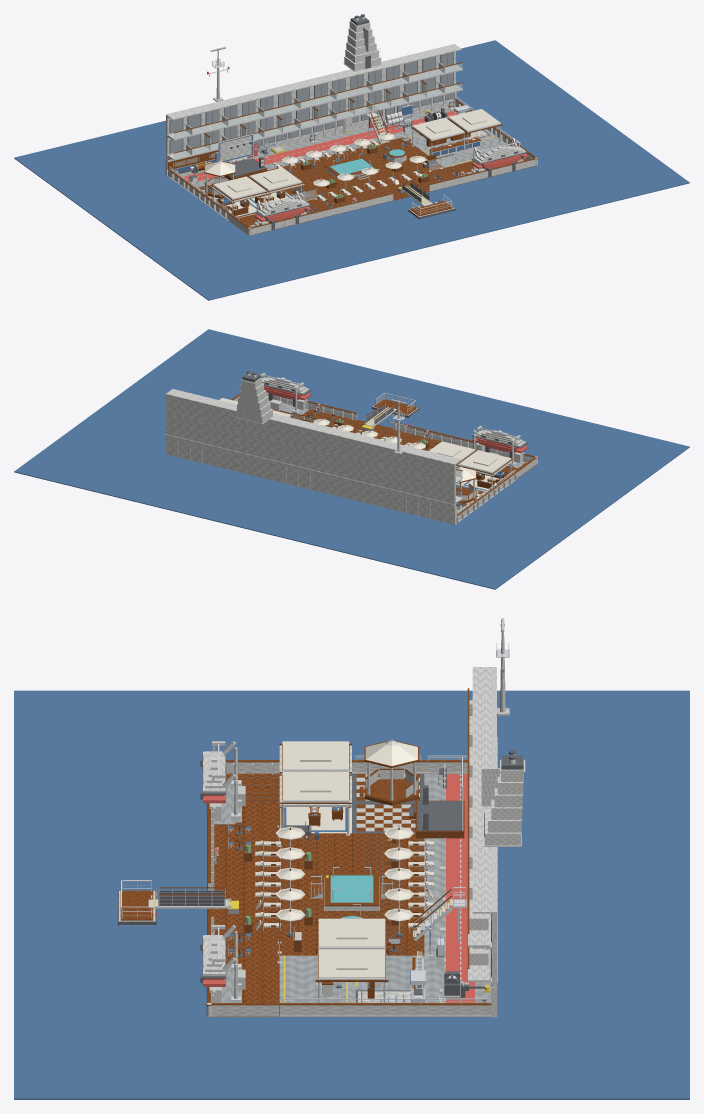
Rendered from cruise-ship-deck-and-lounge-cruise-ship--1aad3f11-starter-scene__38462.glb.
3 renders of one model, top to bottom at view 1: azimuth 30°, elevation 25°; view 2: azimuth 150°, elevation 25°; view 3: azimuth 270°, elevation 25°, orthographic. The views are drawn at different scales.
Visible parts, largest first — view 1: 003-cruise-ship-deck-and-lounge-sea-surface-tile/0, 027-cruise-ship-deck-and-lounge-sea-surface-tile/0, 035-cruise-ship-deck-and-lounge-sea-surface-tile/0, 019-cruise-ship-deck-and-lounge-sea-surface-tile/0, 023-cruise-ship-deck-and-lounge-sea-surface-tile/0, 007-cruise-ship-deck-and-lounge-sea-surface-tile/0, 011-cruise-ship-deck-and-lounge-sea-surface-tile/0, 039-cruise-ship-deck-and-lounge-sea-surface-tile/0, 015-cruise-ship-deck-and-lounge-sea-surface-tile/0, 031-cruise-ship-deck-and-lounge-sea-surface-tile/0, 002-cruise-ship-deck-and-lounge-sea-surface-tile/0, 041-cruise-ship-deck-and-lounge-sea-surface-tile/0 (+64 smaller); view 2: 000-cruise-ship-deck-and-lounge-sea-surface-tile/0, 008-cruise-ship-deck-and-lounge-sea-surface-tile/0, 016-cruise-ship-deck-and-lounge-sea-surface-tile/0, 024-cruise-ship-deck-and-lounge-sea-surface-tile/0, 004-cruise-ship-deck-and-lounge-sea-surface-tile/0, 032-cruise-ship-deck-and-lounge-sea-surface-tile/0, 020-cruise-ship-deck-and-lounge-sea-surface-tile/0, 028-cruise-ship-deck-and-lounge-sea-surface-tile/0, 012-cruise-ship-deck-and-lounge-sea-surface-tile/0, 036-cruise-ship-deck-and-lounge-sea-surface-tile/0, 041-cruise-ship-deck-and-lounge-sea-surface-tile/0, 002-cruise-ship-deck-and-lounge-sea-surface-tile/0 (+65 smaller); view 3: 050-cruise-ship-deck-and-lounge-sea-surface-tile/0, 036-cruise-ship-deck-and-lounge-sea-surface-tile/0, 039-cruise-ship-deck-and-lounge-sea-surface-tile/0, 049-cruise-ship-deck-and-lounge-sea-surface-tile/0, 051-cruise-ship-deck-and-lounge-sea-surface-tile/0, 037-cruise-ship-deck-and-lounge-sea-surface-tile/0, 038-cruise-ship-deck-and-lounge-sea-surface-tile/0, 041-cruise-ship-deck-and-lounge-sea-surface-tile/0, 000-cruise-ship-deck-and-lounge-sea-surface-tile/0, 003-cruise-ship-deck-and-lounge-sea-surface-tile/0, 016-cruise-ship-deck-and-lounge-sea-surface-tile/0, 019-cruise-ship-deck-and-lounge-sea-surface-tile/0 (+85 smaller).
Part boxes in pixels (bbox=[...]): 003-cruise-ship-deck-and-lounge-sea-surface-tile/0: bbox=[180, 268, 256, 300]; 027-cruise-ship-deck-and-lounge-sea-surface-tile/0: bbox=[470, 197, 545, 230]; 035-cruise-ship-deck-and-lounge-sea-surface-tile/0: bbox=[566, 174, 641, 206]; 019-cruise-ship-deck-and-lounge-sea-surface-tile/0: bbox=[373, 221, 449, 253]; 023-cruise-ship-deck-and-lounge-sea-surface-tile/0: bbox=[422, 209, 497, 241]; 007-cruise-ship-deck-and-lounge-sea-surface-tile/0: bbox=[229, 256, 304, 288]; 011-cruise-ship-deck-and-lounge-sea-surface-tile/0: bbox=[277, 244, 352, 277]; 039-cruise-ship-deck-and-lounge-sea-surface-tile/0: bbox=[614, 162, 689, 194]; 015-cruise-ship-deck-and-lounge-sea-surface-tile/0: bbox=[325, 233, 400, 265]; 031-cruise-ship-deck-and-lounge-sea-surface-tile/0: bbox=[518, 186, 593, 218]; 002-cruise-ship-deck-and-lounge-sea-surface-tile/0: bbox=[153, 247, 228, 279]; 041-cruise-ship-deck-and-lounge-sea-surface-tile/0: bbox=[97, 207, 172, 239]; 000-cruise-ship-deck-and-lounge-sea-surface-tile/0: bbox=[447, 557, 523, 589]; 008-cruise-ship-deck-and-lounge-sea-surface-tile/0: bbox=[351, 533, 426, 566]; 016-cruise-ship-deck-and-lounge-sea-surface-tile/0: bbox=[254, 510, 330, 542]; 024-cruise-ship-deck-and-lounge-sea-surface-tile/0: bbox=[158, 486, 233, 519]; 004-cruise-ship-deck-and-lounge-sea-surface-tile/0: bbox=[399, 545, 474, 577]; 032-cruise-ship-deck-and-lounge-sea-surface-tile/0: bbox=[62, 463, 137, 495]; 020-cruise-ship-deck-and-lounge-sea-surface-tile/0: bbox=[206, 498, 281, 530]; 028-cruise-ship-deck-and-lounge-sea-surface-tile/0: bbox=[110, 475, 185, 507]; 012-cruise-ship-deck-and-lounge-sea-surface-tile/0: bbox=[303, 522, 378, 554]; 036-cruise-ship-deck-and-lounge-sea-surface-tile/0: bbox=[14, 451, 89, 483]; 041-cruise-ship-deck-and-lounge-sea-surface-tile/0: bbox=[531, 496, 606, 528]; 002-cruise-ship-deck-and-lounge-sea-surface-tile/0: bbox=[586, 455, 662, 487]; 050-cruise-ship-deck-and-lounge-sea-surface-tile/0: bbox=[303, 1057, 400, 1099]; 036-cruise-ship-deck-and-lounge-sea-surface-tile/0: bbox=[593, 1057, 689, 1099]; 039-cruise-ship-deck-and-lounge-sea-surface-tile/0: bbox=[14, 1057, 110, 1099]; 049-cruise-ship-deck-and-lounge-sea-surface-tile/0: bbox=[400, 1057, 496, 1099]; 051-cruise-ship-deck-and-lounge-sea-surface-tile/0: bbox=[207, 1057, 303, 1099]; 037-cruise-ship-deck-and-lounge-sea-surface-tile/0: bbox=[497, 1057, 593, 1099]; 038-cruise-ship-deck-and-lounge-sea-surface-tile/0: bbox=[110, 1057, 206, 1099]; 041-cruise-ship-deck-and-lounge-sea-surface-tile/0: bbox=[303, 690, 400, 731]; 000-cruise-ship-deck-and-lounge-sea-surface-tile/0: bbox=[593, 690, 689, 731]; 003-cruise-ship-deck-and-lounge-sea-surface-tile/0: bbox=[14, 690, 110, 731]; 016-cruise-ship-deck-and-lounge-sea-surface-tile/0: bbox=[593, 853, 689, 894]; 019-cruise-ship-deck-and-lounge-sea-surface-tile/0: bbox=[14, 853, 110, 894].
Size of the model in its own units: 80 by 17.86 by 56.
Materials: 12 (3 with a texture image).
